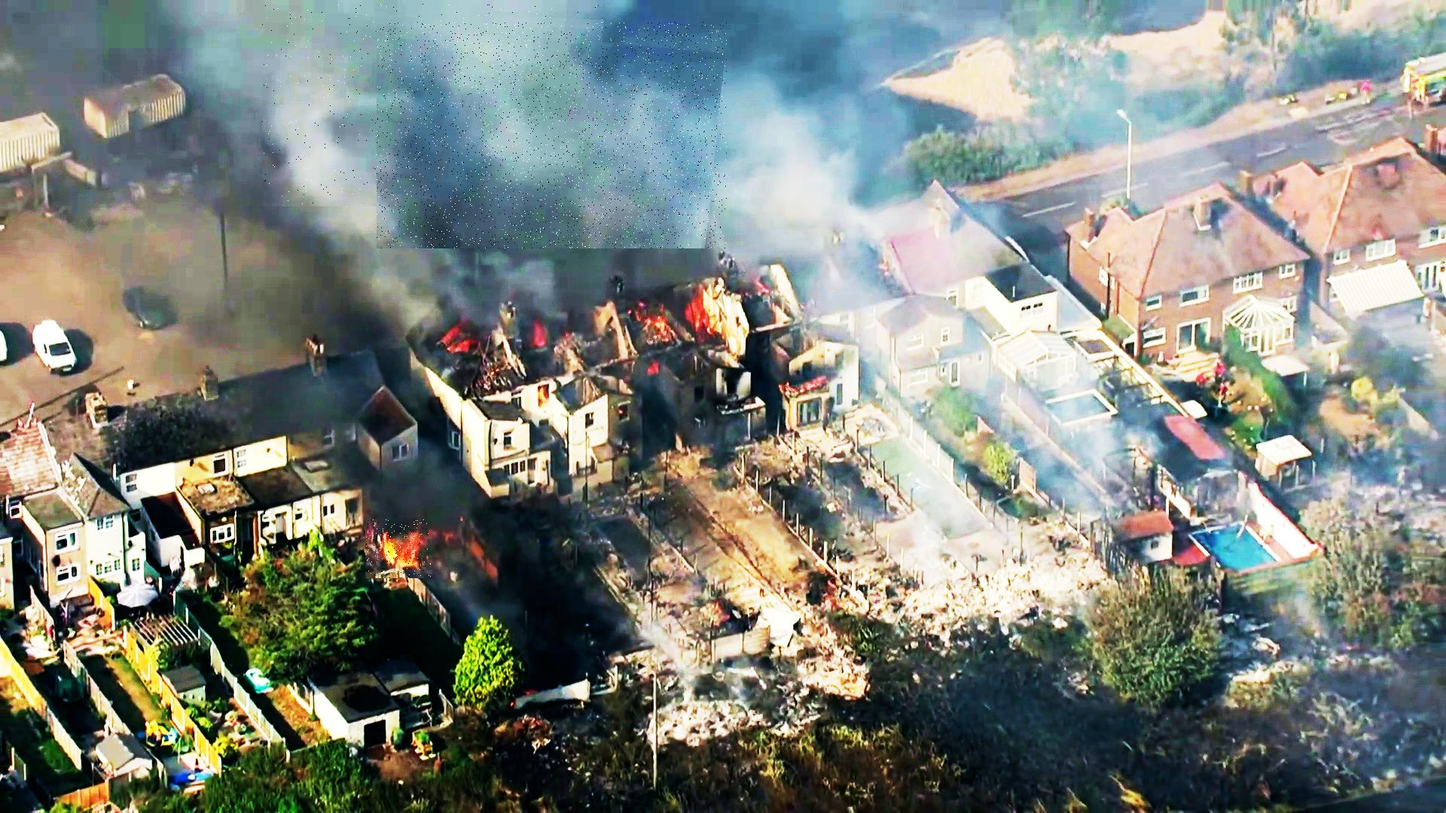fire: (366, 520, 431, 578)
smoke: (377, 22, 727, 249), (262, 4, 605, 208)
